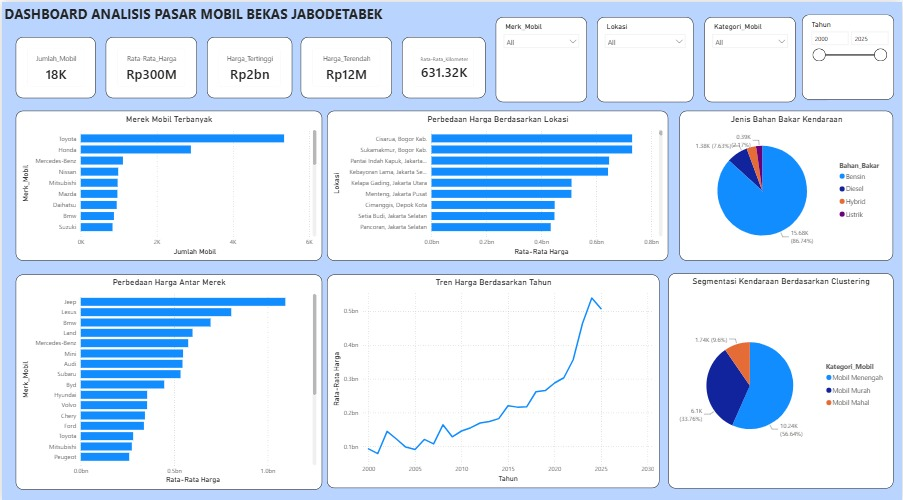

The page's visual inventory and layout, read from the dashboard file:
{"tool":"powerbi","page":{"name":"Page 1","canvas":[1800,1000],"ordinal":0},"visuals":[{"type":"cardVisual","fields":{"Data":["Fact_Kendaraan.Jumlah_Mobil"]},"box":[27.5,70,160,122.5],"z":0},{"type":"cardVisual","fields":{"Data":["Fact_Kendaraan.Rata-Rata_Harga"]},"box":[207.5,70,182.5,122.5],"z":1000},{"type":"cardVisual","fields":{"Data":["Fact_Kendaraan.Harga_Terendah"]},"box":[597.5,70,182.5,122.5],"z":2000},{"type":"cardVisual","fields":{"Data":["Fact_Kendaraan.Harga_Tertinggi"]},"box":[410,70,170,122.5],"z":3000},{"type":"cardVisual","fields":{"Data":["Fact_Kendaraan.Rata-Rata_Kilometer"]},"box":[800,70,167.5,122.5],"z":4000},{"type":"barChart","title":"Merek Mobil Terbanyak","fields":{"Category":["Dim_Kendaraan.Merk_Mobil"],"Y":["CountNonNull(Fact_Kendaraan.Id_Kendaraan_Dim)"]},"box":[27.5,217.5,612.5,300],"z":5000},{"type":"lineChart","title":"Tren Harga Berdasarkan Tahun","fields":{"Category":["Dim_Waktu.Tahun"],"Y":["Avg(Fact_Kendaraan.Harga)"]},"box":[650,545,665,427.5],"z":6000},{"type":"barChart","title":"Perbedaan Harga Berdasarkan Lokasi","fields":{"Category":["Dim_Lokasi.Lokasi"],"Y":["Avg(Fact_Kendaraan.Harga)"]},"box":[650,217.5,682.5,300],"z":7000},{"type":"barChart","title":"Perbedaan Harga Antar Merek","fields":{"Category":["Dim_Kendaraan.Merk_Mobil"],"Y":["Avg(Fact_Kendaraan.Harga)"]},"box":[27.5,545,612.5,430],"z":8000},{"type":"pieChart","title":"Jenis Bahan Bakar Kendaraan","fields":{"Category":["Dim_Kendaraan.Bahan_Bakar"],"Y":["CountNonNull(Fact_Kendaraan.Id_Kendaraan_Dim)"]},"box":[1355,217.5,427.5,300],"z":9000},{"type":"pieChart","title":"Segmentasi Kendaraan Berdasarkan Clustering","fields":{"Category":["Fact_Kendaraan.Kategori_Mobil"],"Y":["CountNonNull(Fact_Kendaraan.Id_Kendaraan_Dim)"]},"box":[1332.5,542.5,450,430],"z":10000},{"type":"slicer","fields":{"Values":["Dim_Kendaraan.Merk_Mobil"]},"box":[987.5,30,182.5,170],"z":11000},{"type":"slicer","fields":{"Values":["Dim_Lokasi.Lokasi"]},"box":[1190,30,192.5,170],"z":12000},{"type":"slicer","fields":{"Values":["Fact_Kendaraan.Kategori_Mobil"]},"box":[1405,30,182.5,170],"z":13000},{"type":"slicer","fields":{"Values":["Dim_Waktu.Tahun"]},"box":[1600,26,184,170],"z":14000},{"type":"textbox","box":[0,0,822.5,50],"z":15000}]}

Visuals, with their boxes in screenshot pixels (x1, y1, x2, y2), scaled from the page's 1800x1000 canvas onto the 903x500 screenshot:
cardVisual - Fact_Kendaraan.Jumlah_Mobil: box(14, 35, 94, 96)
cardVisual - Fact_Kendaraan.Rata-Rata_Harga: box(104, 35, 196, 96)
cardVisual - Fact_Kendaraan.Harga_Terendah: box(300, 35, 391, 96)
cardVisual - Fact_Kendaraan.Harga_Tertinggi: box(206, 35, 291, 96)
cardVisual - Fact_Kendaraan.Rata-Rata_Kilometer: box(401, 35, 485, 96)
"Merek Mobil Terbanyak" barChart: box(14, 109, 321, 259)
"Tren Harga Berdasarkan Tahun" lineChart: box(326, 272, 660, 486)
"Perbedaan Harga Berdasarkan Lokasi" barChart: box(326, 109, 668, 259)
"Perbedaan Harga Antar Merek" barChart: box(14, 272, 321, 488)
"Jenis Bahan Bakar Kendaraan" pieChart: box(680, 109, 894, 259)
"Segmentasi Kendaraan Berdasarkan Clustering" pieChart: box(668, 271, 894, 486)
slicer - Dim_Kendaraan.Merk_Mobil: box(495, 15, 587, 100)
slicer - Dim_Lokasi.Lokasi: box(597, 15, 694, 100)
slicer - Fact_Kendaraan.Kategori_Mobil: box(705, 15, 796, 100)
slicer - Dim_Waktu.Tahun: box(803, 13, 895, 98)
textbox: box(0, 0, 413, 25)
